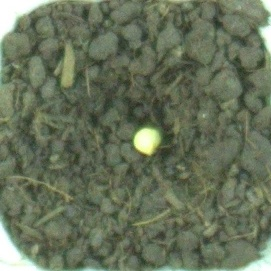pepper seed: (49, 47, 213, 204)
